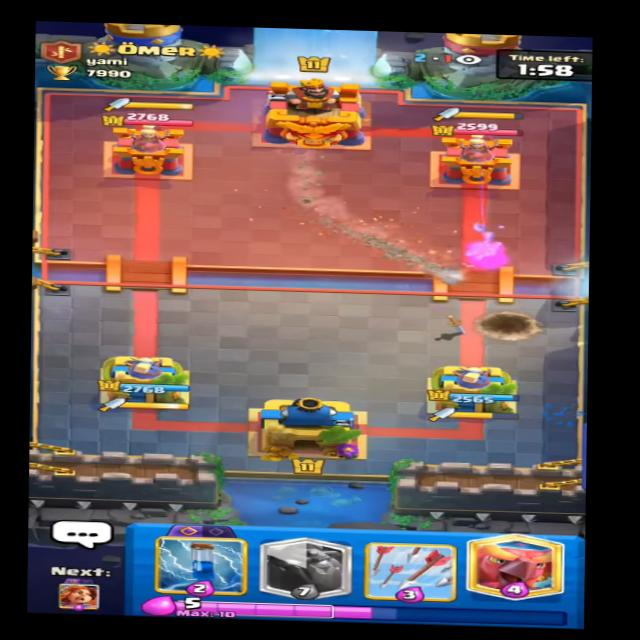trail: (304, 204, 478, 285)
